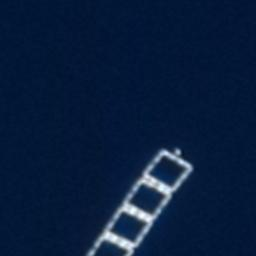square_solid: (141, 146, 195, 197), (120, 173, 173, 222), (102, 203, 152, 250)
